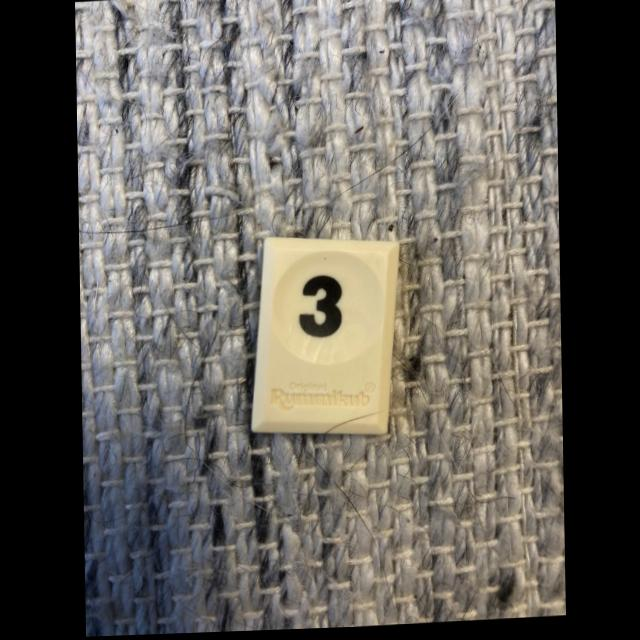black_3: (251, 239, 398, 436)
